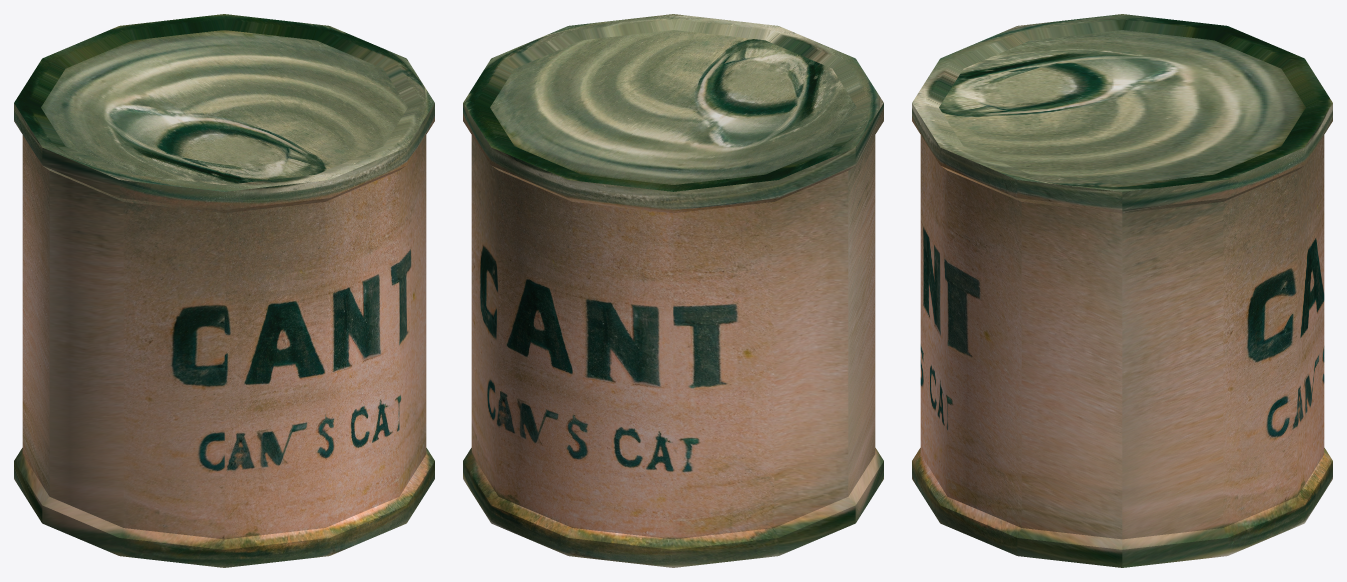
The model's file is SM_Can01.fbx.
3 renders of one model, left to right at view 1: azimuth 30°, elevation 25°; view 2: azimuth 150°, elevation 25°; view 3: azimuth 270°, elevation 25°, orthographic.
Visible parts, largest first — view 1: SM_Can01; view 2: SM_Can01; view 3: SM_Can01.
Boxes of the visible parts, x1,y1,x2,y2 form: SM_Can01: (14,14,434,567); SM_Can01: (463,14,883,567); SM_Can01: (912,14,1332,567).
Bounding box in the file's own units: 17.71 × 17.46 × 17.71.
